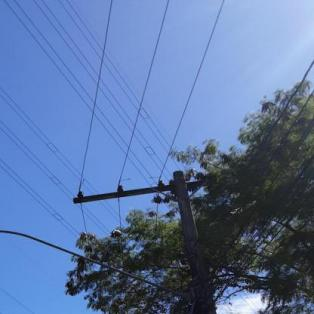Poste: (169, 169, 298, 314)
